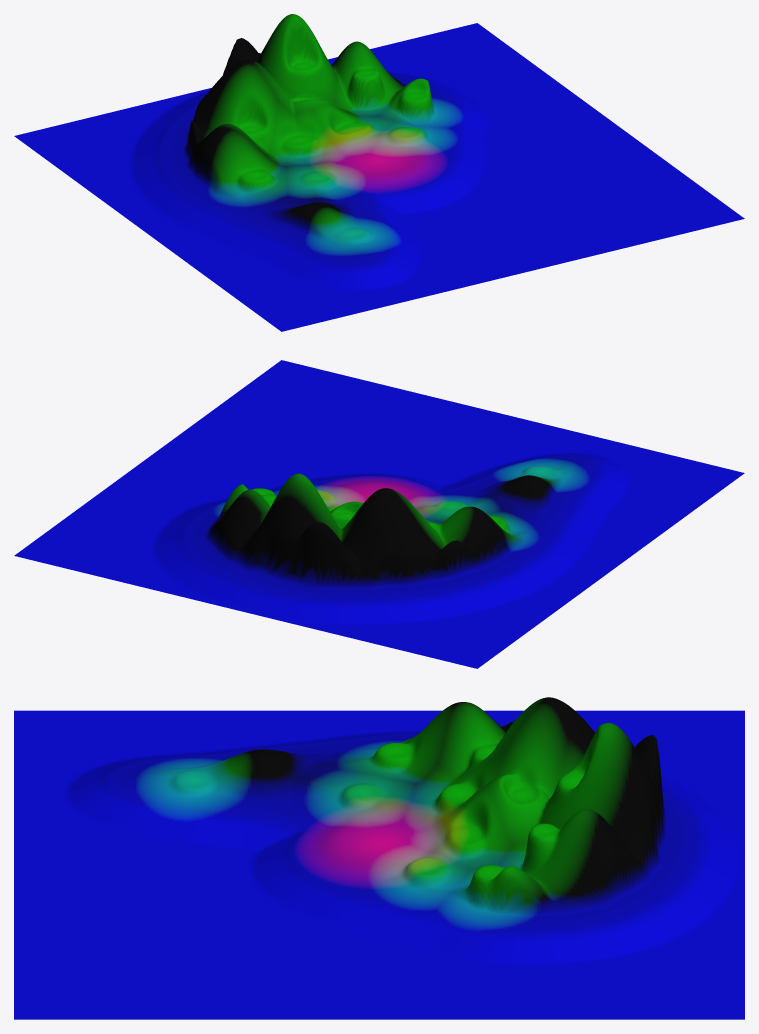
File: ground.glb
3 renders of one model, top to bottom at view 1: azimuth 30°, elevation 25°; view 2: azimuth 150°, elevation 25°; view 3: azimuth 270°, elevation 25°, orthographic. The views are drawn at different scales.
Visible parts, largest first — view 1: ground.001; view 2: ground.001; view 3: ground.001.
Boxes of the visible parts, x1,y1,x2,y2 form: ground.001: (14, 14, 744, 331); ground.001: (14, 360, 744, 668); ground.001: (14, 697, 744, 1019).
Size of the model in its own units: 276 by 58.01 by 276.
